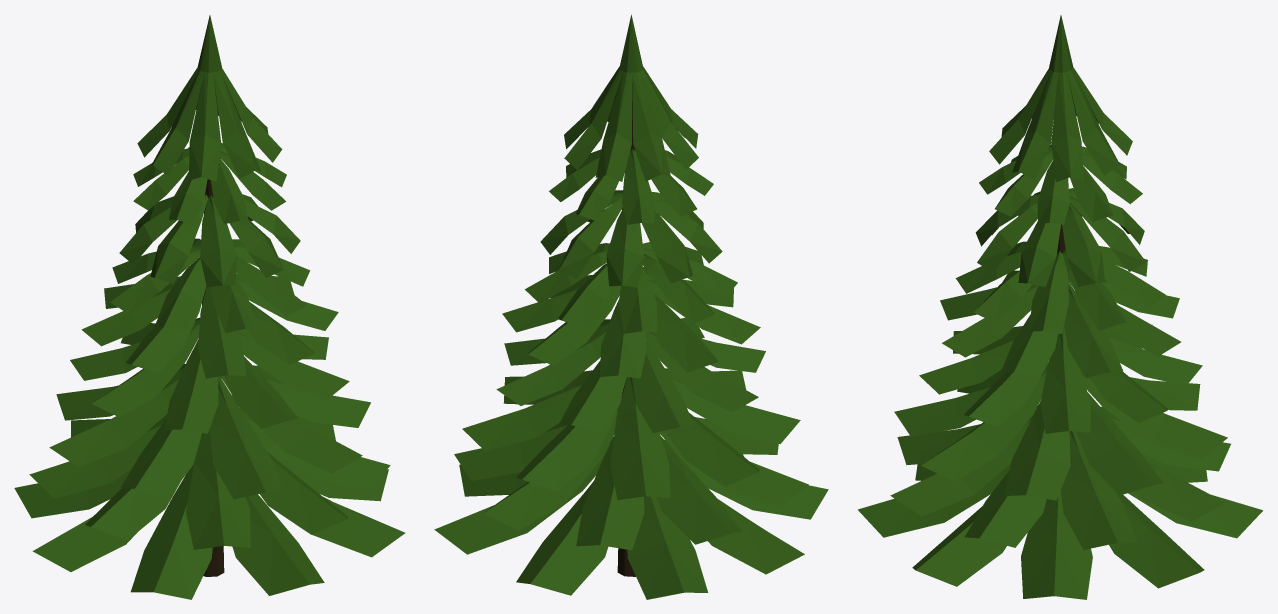
Rendered from treewater.dae.
3 renders of one model, left to right at view 1: azimuth 30°, elevation 25°; view 2: azimuth 150°, elevation 25°; view 3: azimuth 270°, elevation 25°, orthographic.
Visible parts, largest first — view 1: Fir-tree; view 2: Fir-tree; view 3: Fir-tree.
Part boxes in pixels (x1,y1,x2,y2): Fir-tree: [14, 15, 405, 599]; Fir-tree: [434, 14, 828, 599]; Fir-tree: [857, 15, 1262, 599].
Size of the model in its own units: 3.77 by 5.71 by 3.77.
